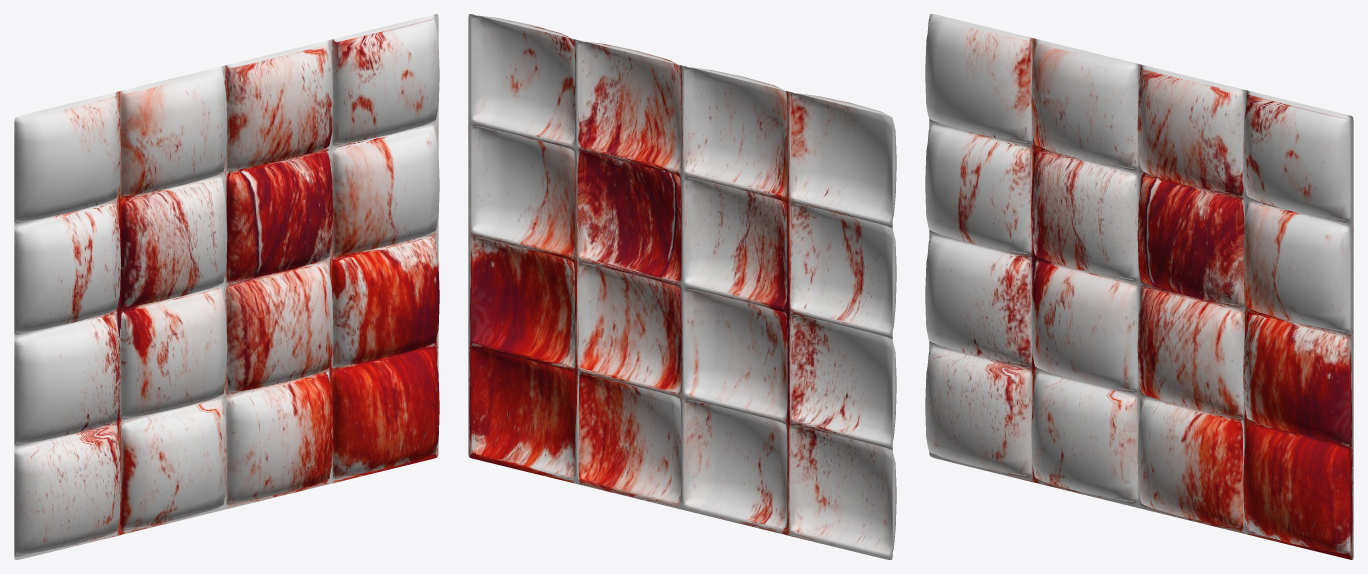
Rendered from Pared_010.fbx.
The picture shows the model from 3 angles, left to right: view 1: azimuth 30°, elevation 25°; view 2: azimuth 150°, elevation 25°; view 3: azimuth 330°, elevation 25°; orthographic projection.
Visible parts, largest first — view 1: Plane; view 2: Plane; view 3: Plane.
Part boxes in pixels (x1,y1,x2,y2): Plane: (14, 14, 439, 559); Plane: (468, 14, 896, 559); Plane: (925, 14, 1353, 559).
Size of the model in its own units: 600 by 600 by 39.87.
